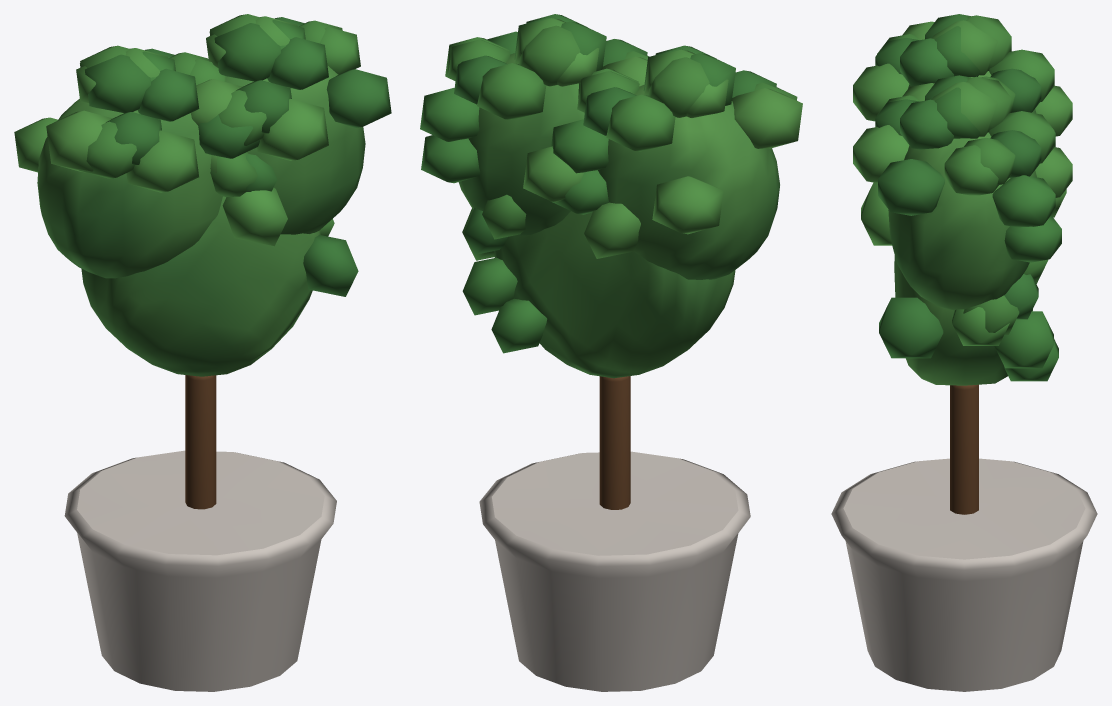
The model's file is furn_od_topiary_heart.glb.
3 views of the same model, side by side, from view 1: azimuth 30°, elevation 25°; view 2: azimuth 150°, elevation 25°; view 3: azimuth 270°, elevation 25° (orthographic). The views are drawn at different scales.
Visible parts, largest first — view 1: furn_od_topiary_heart_main; view 2: furn_od_topiary_heart_main; view 3: furn_od_topiary_heart_main.
Boxes of the visible parts, x1,y1,x2,y2 form: furn_od_topiary_heart_main: [14, 14, 391, 691]; furn_od_topiary_heart_main: [420, 14, 802, 691]; furn_od_topiary_heart_main: [831, 14, 1097, 691].
Bounding box in the file's own units: 0.6063 × 1.09 × 0.44.
